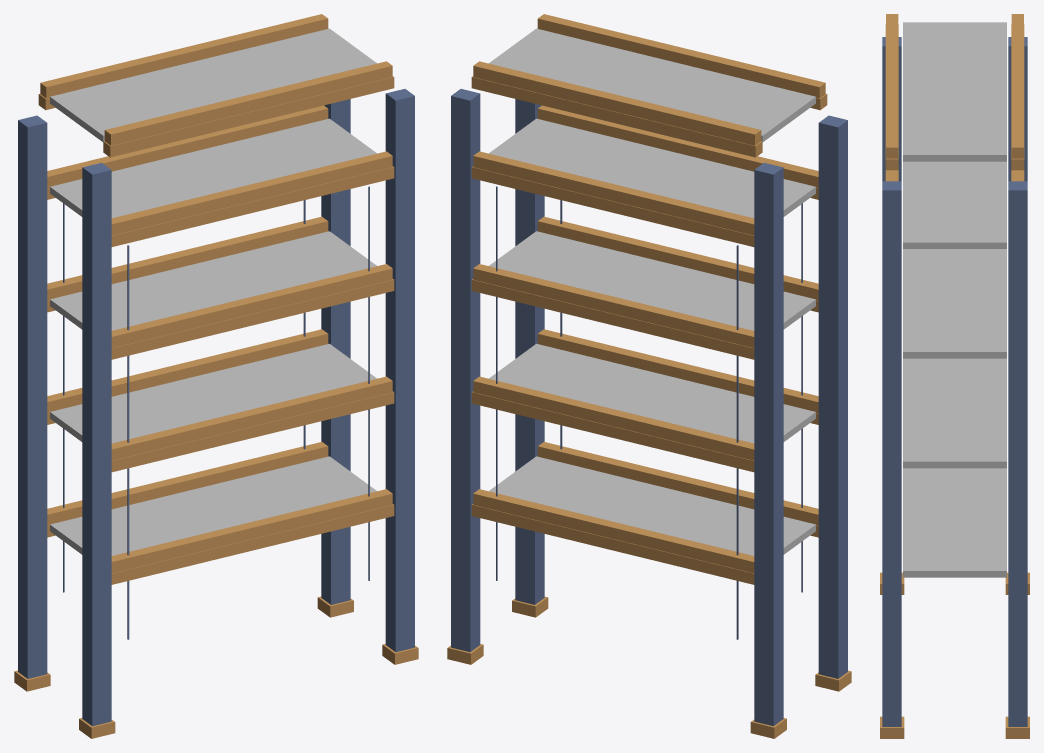
File: shelf-beam-medium-5level-2m.glb
The picture shows the model from 3 angles, left to right: view 1: azimuth 30°, elevation 25°; view 2: azimuth 150°, elevation 25°; view 3: azimuth 270°, elevation 25°; orthographic projection. The views are drawn at different scales.
Visible parts, largest first — view 1: part_0, part_4, part_2, part_32, part_27, part_12, part_22, part_17, part_6, part_28, part_23, part_8 (+13 smaller); view 2: part_0, part_4, part_6, part_32, part_27, part_12, part_22, part_17, part_2, part_30, part_25, part_10 (+13 smaller); view 3: part_32, part_17, part_12, part_22, part_2, part_6, part_27, part_28, part_30, part_0, part_4, part_29 (+3 smaller).
Part boxes in pixels (x1=…): part_0: x1=82, y1=162, x2=111, y2=726; part_4: x1=18, y1=115, x2=47, y2=678; part_2: x1=385, y1=89, x2=414, y2=651; part_32: x1=50, y1=28, x2=376, y2=141; part_27: x1=50, y1=118, x2=376, y2=218; part_12: x1=50, y1=456, x2=376, y2=555; part_22: x1=50, y1=231, x2=376, y2=330; part_17: x1=50, y1=343, x2=376, y2=443; part_6: x1=321, y1=99, x2=350, y2=604; part_28: x1=104, y1=61, x2=392, y2=145; part_23: x1=111, y1=151, x2=392, y2=235; part_8: x1=111, y1=489, x2=392, y2=573; part_0: x1=818, y1=115, x2=847, y2=678; part_4: x1=754, y1=162, x2=783, y2=726; part_6: x1=451, y1=89, x2=480, y2=651; part_32: x1=489, y1=28, x2=815, y2=141; part_27: x1=489, y1=118, x2=815, y2=218; part_12: x1=489, y1=456, x2=815, y2=555; part_22: x1=489, y1=231, x2=815, y2=330; part_17: x1=489, y1=343, x2=815, y2=443; part_2: x1=515, y1=99, x2=544, y2=604; part_30: x1=473, y1=61, x2=761, y2=145; part_25: x1=473, y1=151, x2=754, y2=235; part_10: x1=473, y1=489, x2=754, y2=573; part_32: x1=903, y1=22, x2=1006, y2=161; part_17: x1=903, y1=358, x2=1006, y2=468; part_12: x1=903, y1=468, x2=1006, y2=577; part_22: x1=903, y1=249, x2=1006, y2=358; part_2: x1=882, y1=181, x2=901, y2=726; part_6: x1=1008, y1=181, x2=1027, y2=726; part_27: x1=903, y1=161, x2=1006, y2=248; part_28: x1=886, y1=14, x2=898, y2=158; part_30: x1=1011, y1=14, x2=1023, y2=158; part_0: x1=882, y1=37, x2=901, y2=181; part_4: x1=1008, y1=37, x2=1027, y2=181; part_29: x1=885, y1=24, x2=898, y2=170.
Bounding box in the file's own units: 1520 × 2650 × 620.
